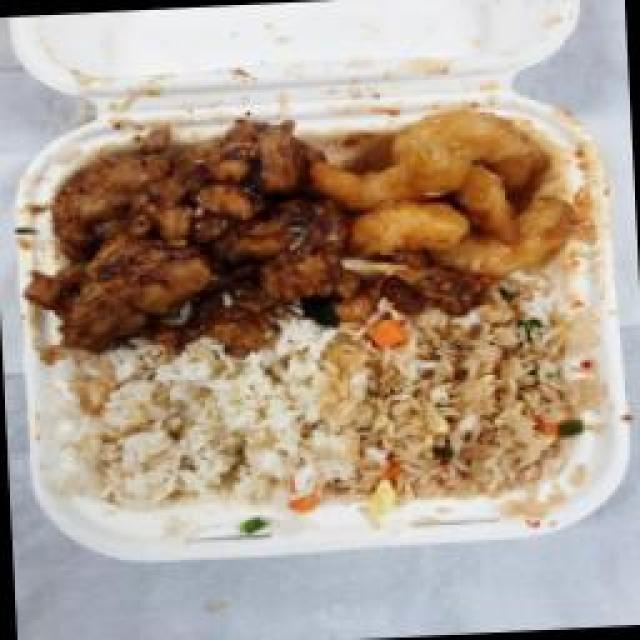Fried Rice: (315, 302, 588, 500)
Honey Walnut Shrimp: (310, 105, 588, 323)
The Original Orange Chicken: (12, 108, 360, 361)
White Steamed Rice: (55, 333, 348, 523)
